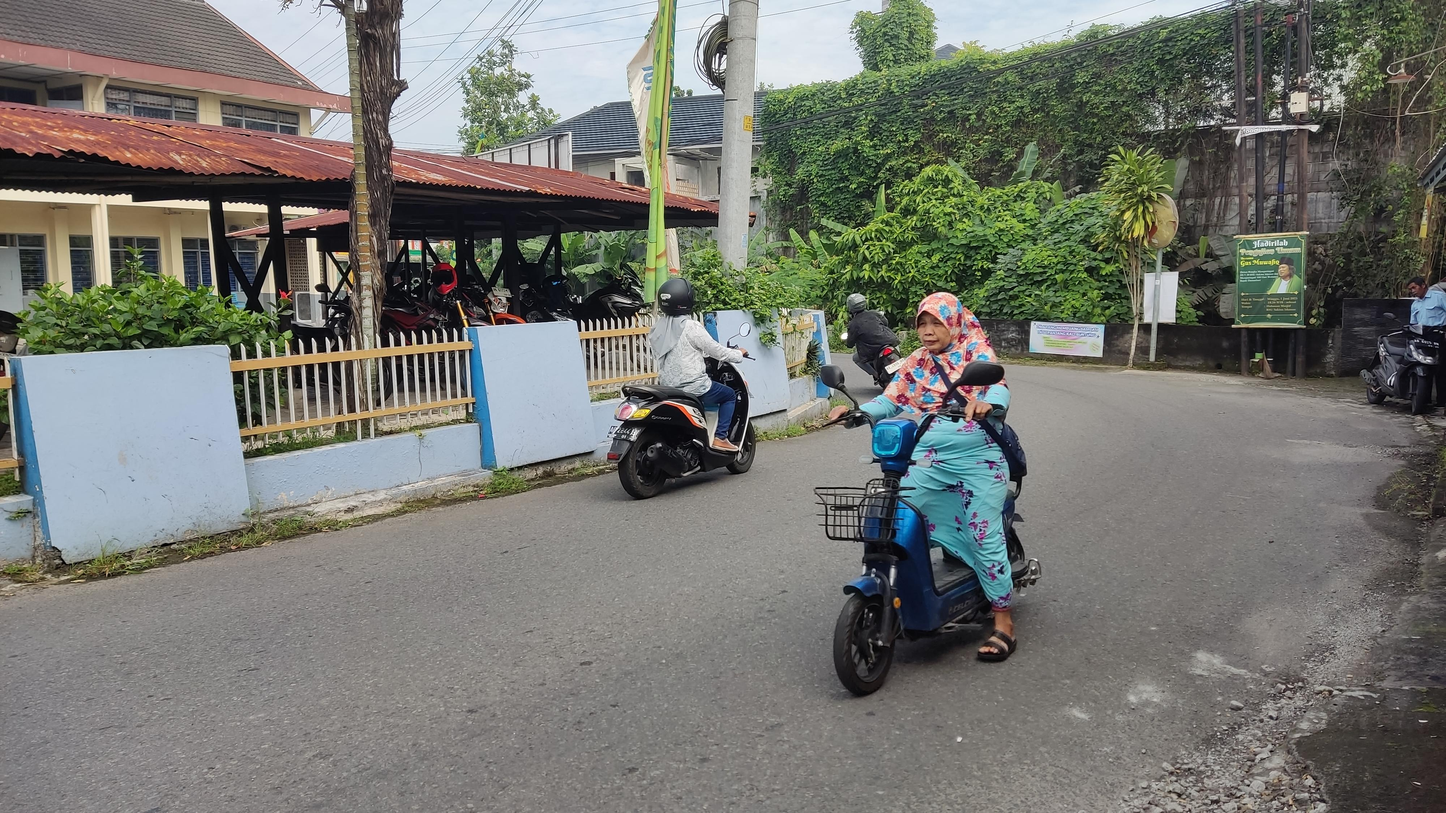helm: (652, 270, 704, 324)
nohelm: (911, 287, 983, 364)
riding: (809, 287, 1056, 712), (605, 271, 770, 503)
